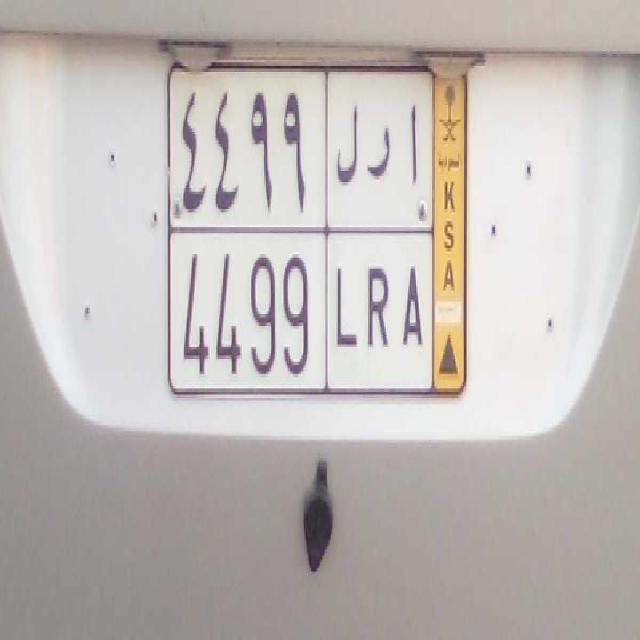license_plate: (165, 224, 433, 395)
